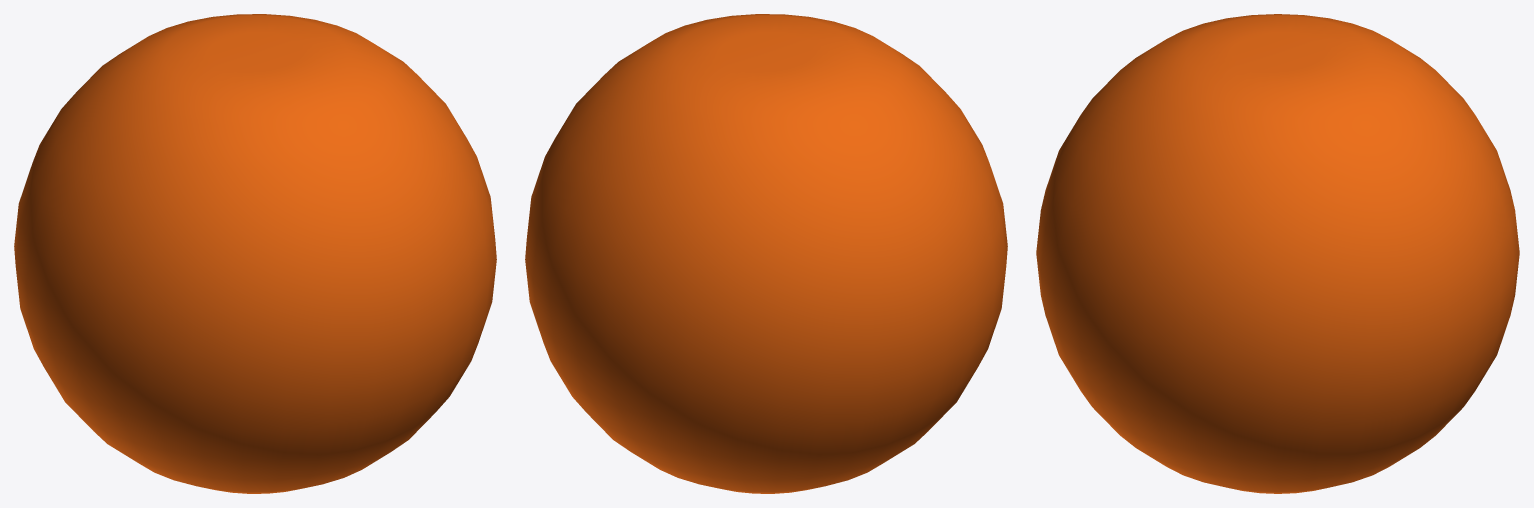
File: fruit.glb
3 renders of one model, left to right at view 1: azimuth 30°, elevation 25°; view 2: azimuth 150°, elevation 25°; view 3: azimuth 270°, elevation 25°, orthographic.
Parts seen in each view (by area): view 1: Sphere; view 2: Sphere; view 3: Sphere.
Part boxes in pixels (x1,y1,x2,y2): Sphere: (14,14,496,493); Sphere: (525,14,1007,493); Sphere: (1036,14,1519,493).
Bounding box in the file's own units: 2 × 1.84 × 2.
